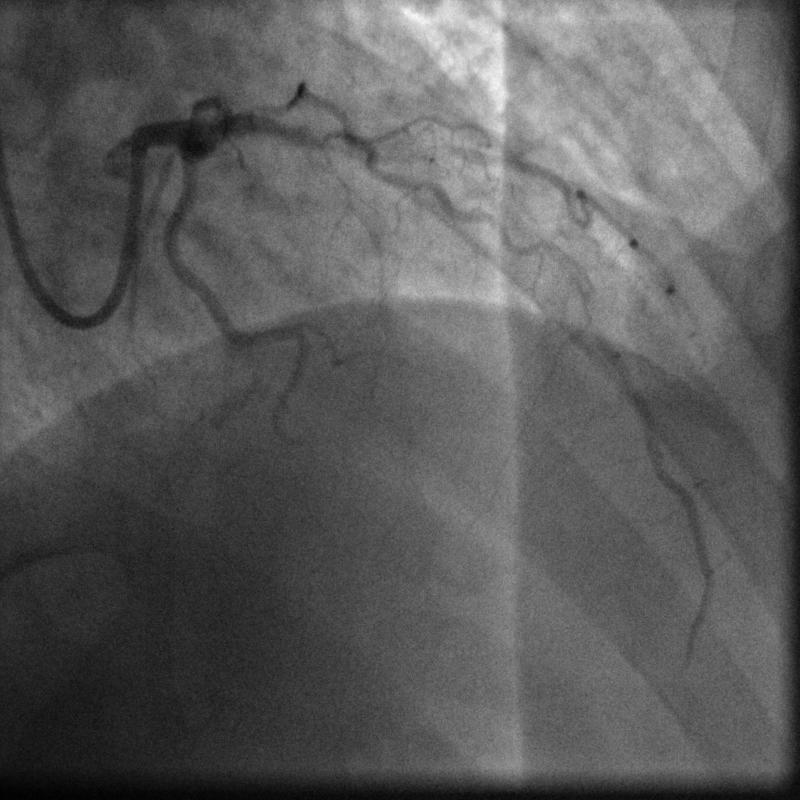Stenosis: (322, 128, 418, 165)
